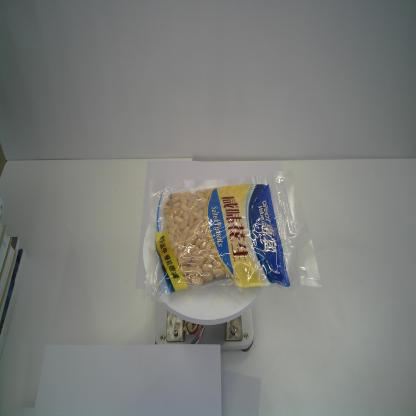Dried Fruit: (144, 170, 323, 304)
